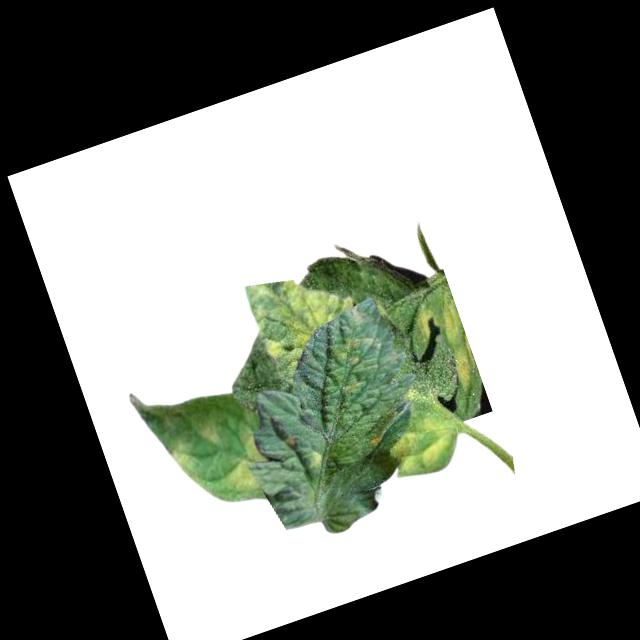Leaf_Mold: (243, 253, 374, 385), (380, 407, 468, 487), (213, 430, 278, 499), (328, 329, 385, 377), (167, 438, 207, 490), (434, 298, 470, 350), (445, 343, 481, 390), (413, 304, 444, 342), (193, 413, 225, 449), (336, 373, 371, 402), (304, 445, 328, 472), (362, 427, 387, 452)
